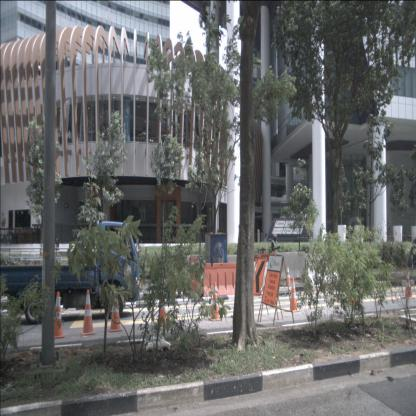barrier: (203, 262, 245, 296), (276, 251, 304, 288)
cone: (49, 290, 66, 338), (80, 289, 96, 336), (155, 284, 171, 329), (108, 287, 123, 333), (208, 282, 223, 322), (287, 276, 300, 313), (400, 265, 414, 299), (285, 264, 292, 288)
